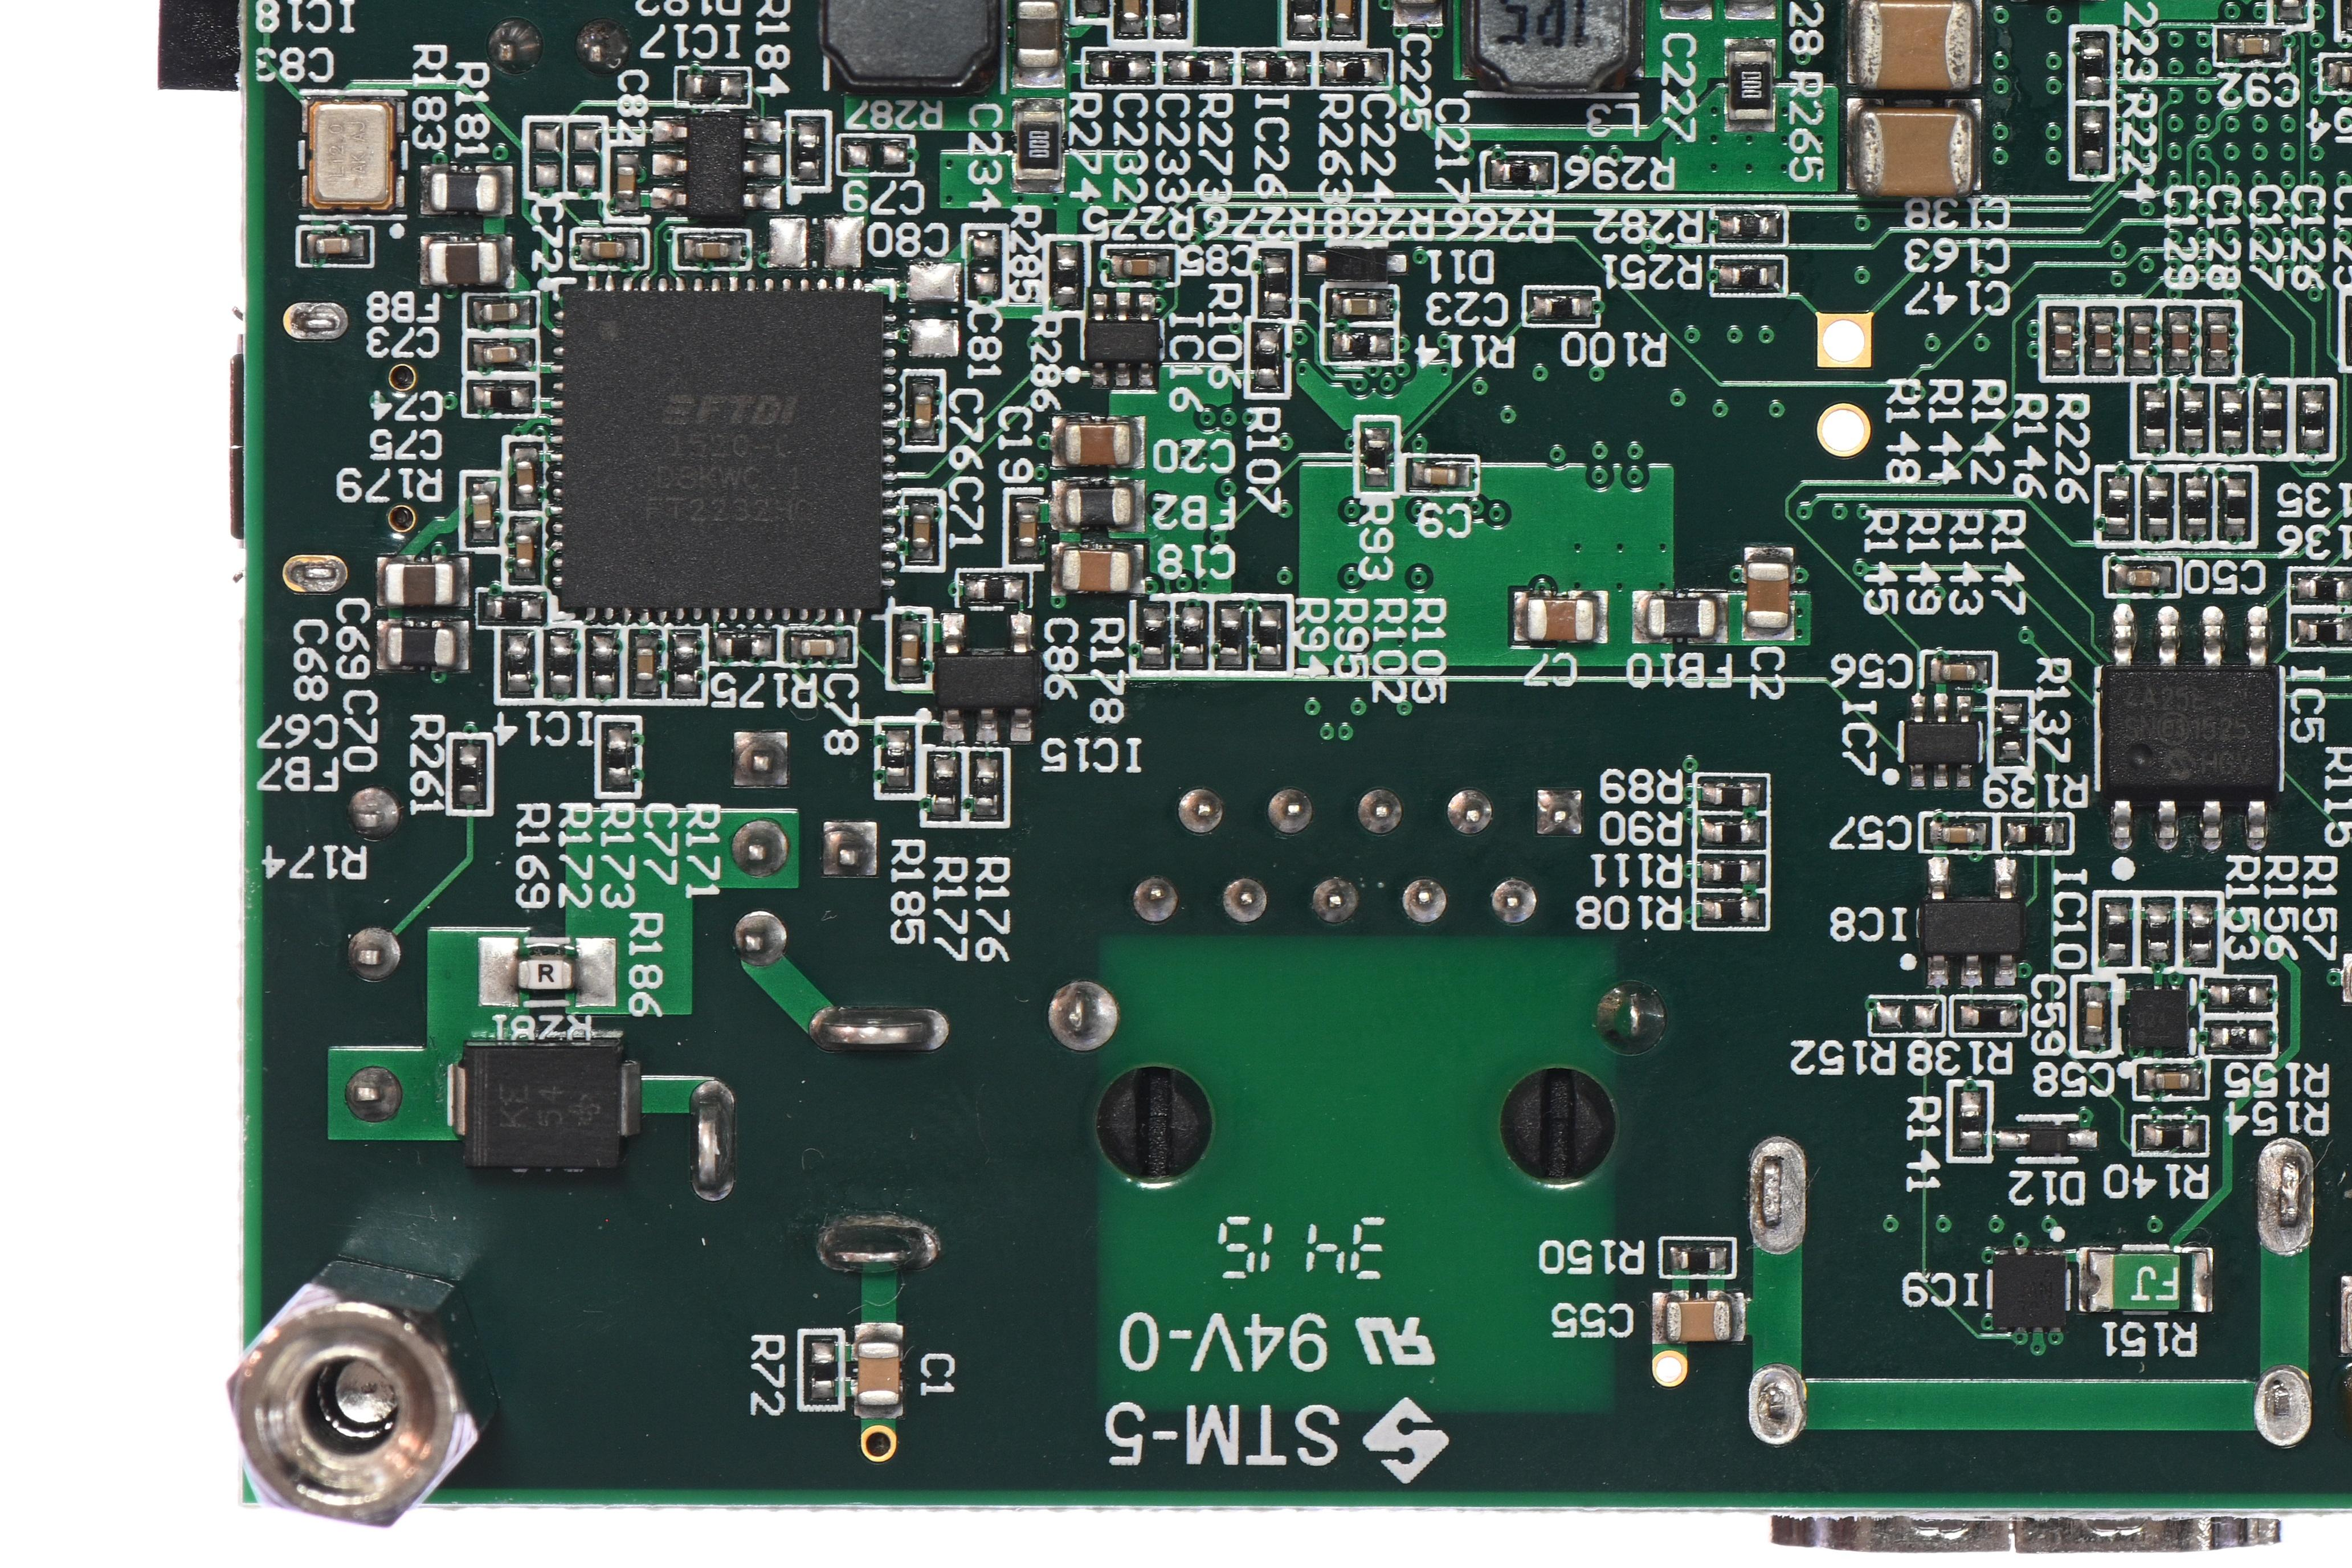ICs: (560, 287, 886, 612), (2095, 661, 2284, 803), (304, 94, 396, 208), (682, 112, 747, 222), (1988, 1249, 2068, 1333), (931, 651, 1041, 712), (1920, 898, 2026, 959), (2124, 985, 2193, 1054), (1080, 313, 1164, 366), (1899, 719, 1981, 768)
capacitors: (1850, 105, 1977, 201), (1850, 0, 1977, 91), (424, 236, 502, 289), (382, 558, 459, 609), (1013, 0, 1064, 72), (1743, 556, 1792, 630), (1059, 546, 1131, 595), (1524, 595, 1596, 644), (1062, 420, 1134, 469), (854, 1337, 903, 1409), (1663, 1297, 1734, 1344), (2088, 318, 2116, 362), (2049, 318, 2077, 362), (2205, 318, 2233, 361), (1337, 292, 1384, 317), (2128, 318, 2154, 362), (2166, 317, 2193, 361), (2231, 33, 2275, 59), (612, 159, 639, 201), (908, 509, 935, 551), (1015, 509, 1041, 551), (2121, 564, 2163, 590), (2151, 1066, 2193, 1092), (1937, 658, 1979, 684), (632, 642, 658, 682), (910, 390, 936, 431), (511, 529, 535, 570), (896, 630, 921, 672), (1935, 823, 1977, 847), (1120, 254, 1160, 278), (313, 233, 353, 257), (511, 457, 535, 497), (469, 490, 494, 530), (796, 637, 838, 660), (478, 345, 520, 367), (1419, 464, 1458, 488), (2081, 998, 2105, 1036), (480, 299, 520, 322), (586, 238, 627, 261), (691, 238, 731, 261), (1332, 0, 1354, 24), (1118, 0, 1141, 24), (1391, 0, 1442, 9), (2336, 61, 2352, 88), (2277, 0, 2301, 12), (1659, 0, 1715, 5), (1722, 0, 1773, 4), (2023, 0, 2100, 2), (2347, 0, 2352, 21), (1082, 0, 1104, 4)
diodes: (1325, 238, 1393, 287), (2023, 1125, 2074, 1159)
inductors: (816, 0, 1004, 91), (1458, 0, 1647, 91), (1061, 481, 1137, 532), (382, 623, 460, 670), (1643, 593, 1719, 642), (425, 170, 502, 215)
resistors: (464, 1039, 625, 1174), (2084, 1246, 2215, 1318), (1724, 45, 1776, 124), (1013, 107, 1064, 186), (513, 955, 576, 994), (2301, 618, 2348, 648), (2303, 576, 2350, 604), (1253, 338, 1281, 383), (2149, 1122, 2195, 1150), (1967, 1003, 2013, 1031), (2144, 908, 2172, 954), (2188, 908, 2215, 954), (2299, 397, 2328, 443), (2221, 483, 2249, 529), (2182, 483, 2210, 529), (2144, 483, 2172, 529), (2217, 397, 2245, 443), (2179, 396, 2207, 441), (2077, 117, 2105, 163), (2217, 1022, 2263, 1050), (808, 1351, 838, 1393), (1335, 331, 1382, 357), (504, 640, 530, 688), (1727, 264, 1771, 292), (1727, 212, 1771, 240), (1708, 896, 1752, 924), (1710, 819, 1754, 847), (1708, 857, 1752, 886), (1498, 157, 1542, 186), (478, 383, 523, 410), (971, 576, 1017, 602), (604, 735, 630, 780), (670, 642, 697, 688), (590, 642, 616, 688), (548, 642, 574, 688), (2013, 821, 2058, 847), (2215, 982, 2261, 1008), (2105, 483, 2132, 529), (2103, 910, 2130, 955), (1997, 709, 2023, 754), (2079, 42, 2105, 88), (2142, 396, 2168, 441), (2257, 397, 2284, 443), (455, 749, 480, 796), (1710, 784, 1754, 810), (1139, 614, 1165, 658), (689, 72, 733, 98), (721, 633, 765, 660), (490, 595, 534, 621), (1362, 434, 1388, 478), (1262, 261, 1288, 304), (1255, 616, 1281, 658), (1216, 616, 1242, 658), (1054, 256, 1080, 298), (1676, 1248, 1720, 1272), (933, 765, 957, 808), (1538, 294, 1582, 318), (1332, 56, 1374, 81), (1097, 56, 1139, 81), (1178, 56, 1220, 81), (884, 738, 908, 780), (973, 768, 998, 810), (1180, 614, 1204, 656), (1255, 56, 1295, 81), (1290, 0, 1318, 30), (1155, 0, 1183, 30), (2348, 308, 2352, 353)
